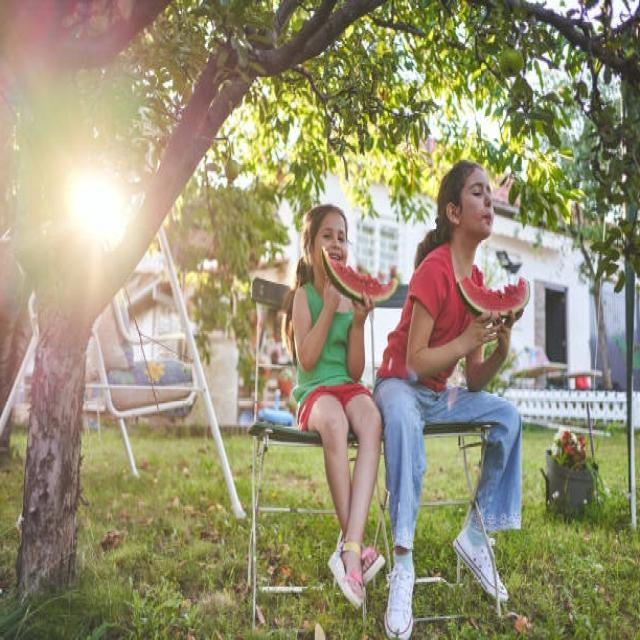Spitting: (426, 157, 520, 282)
